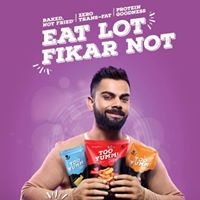plastic: (87, 140, 127, 177), (64, 150, 89, 180), (133, 144, 152, 183)
tooyumm: (131, 154, 153, 174), (95, 148, 121, 162), (69, 158, 87, 169)
wrapper: (59, 151, 149, 170), (127, 153, 158, 175)
